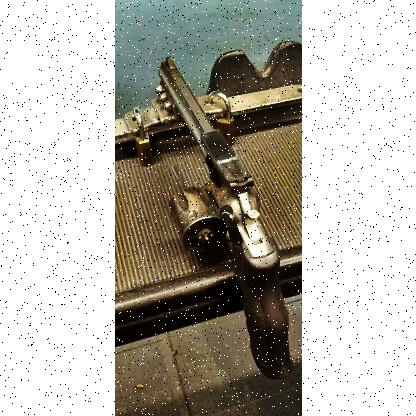gun: (124, 14, 300, 414), (154, 56, 292, 380)
